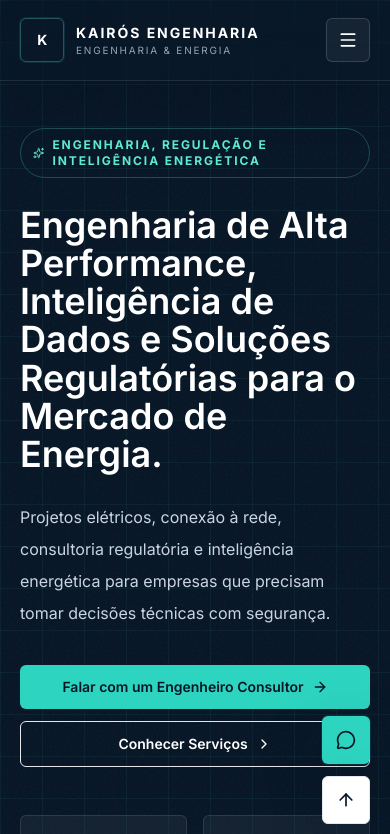
Scenario: Kairós Engenharia site › abre e fecha o menu mobile
The width and height of the screenshot is (390, 834).
Click the button named "abrir menu" at {"x": 348, "y": 40}, box [326,18,370,62]
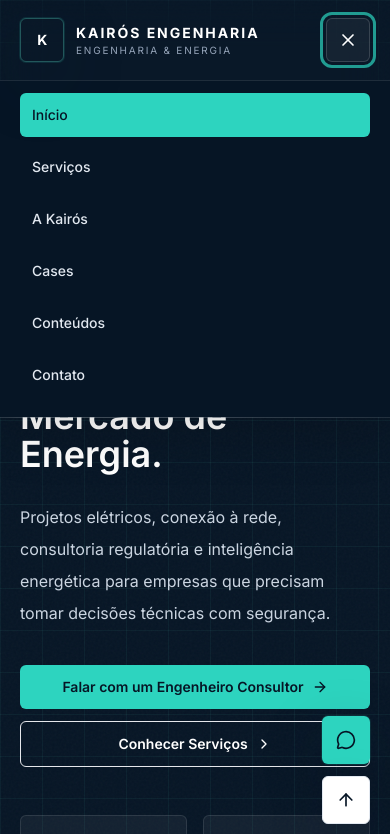
expect the button named "fechar menu" is shown: met, box [326,18,370,62]
